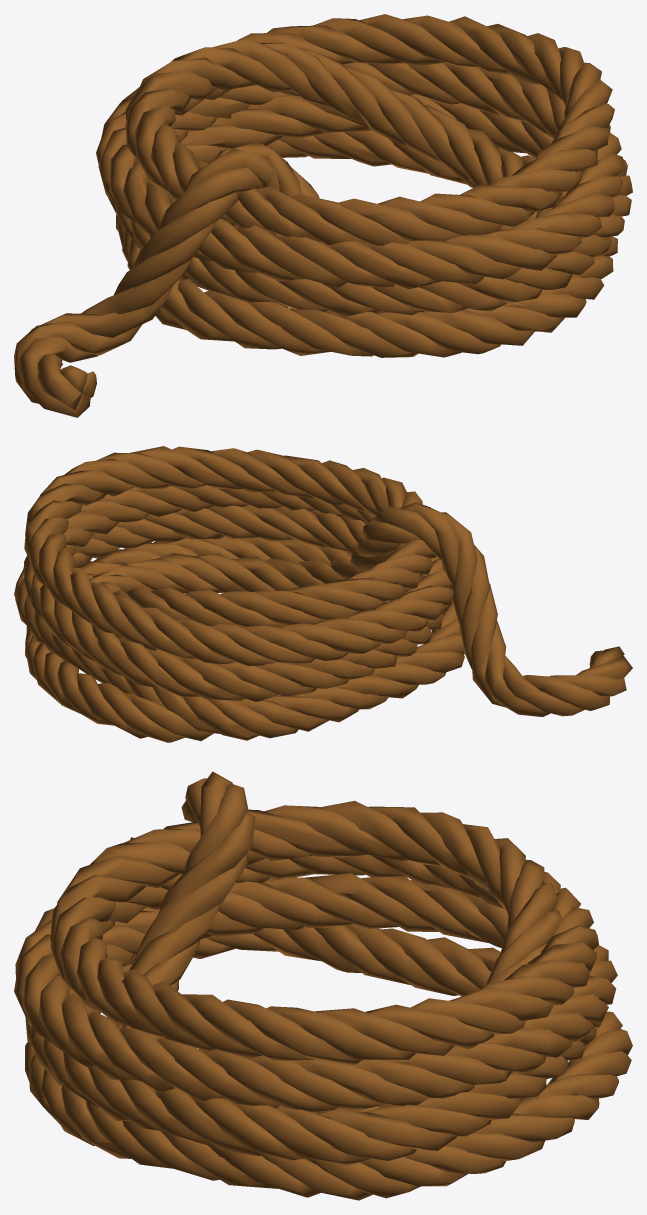
The model's file is rope.fbx.
3 views of the same model, one above another, from view 1: azimuth 30°, elevation 25°; view 2: azimuth 150°, elevation 25°; view 3: azimuth 270°, elevation 25° (orthographic). The views are drawn at different scales.
Parts seen in each view (by area): view 1: Rope.001; view 2: Rope.001; view 3: Rope.001.
Part boxes in pixels (x1,y1,x2,y2): Rope.001: (14,14,632,417); Rope.001: (14,446,632,742); Rope.001: (14,771,632,1200).
Bounding box in the file's own units: 580 × 173 × 441.
